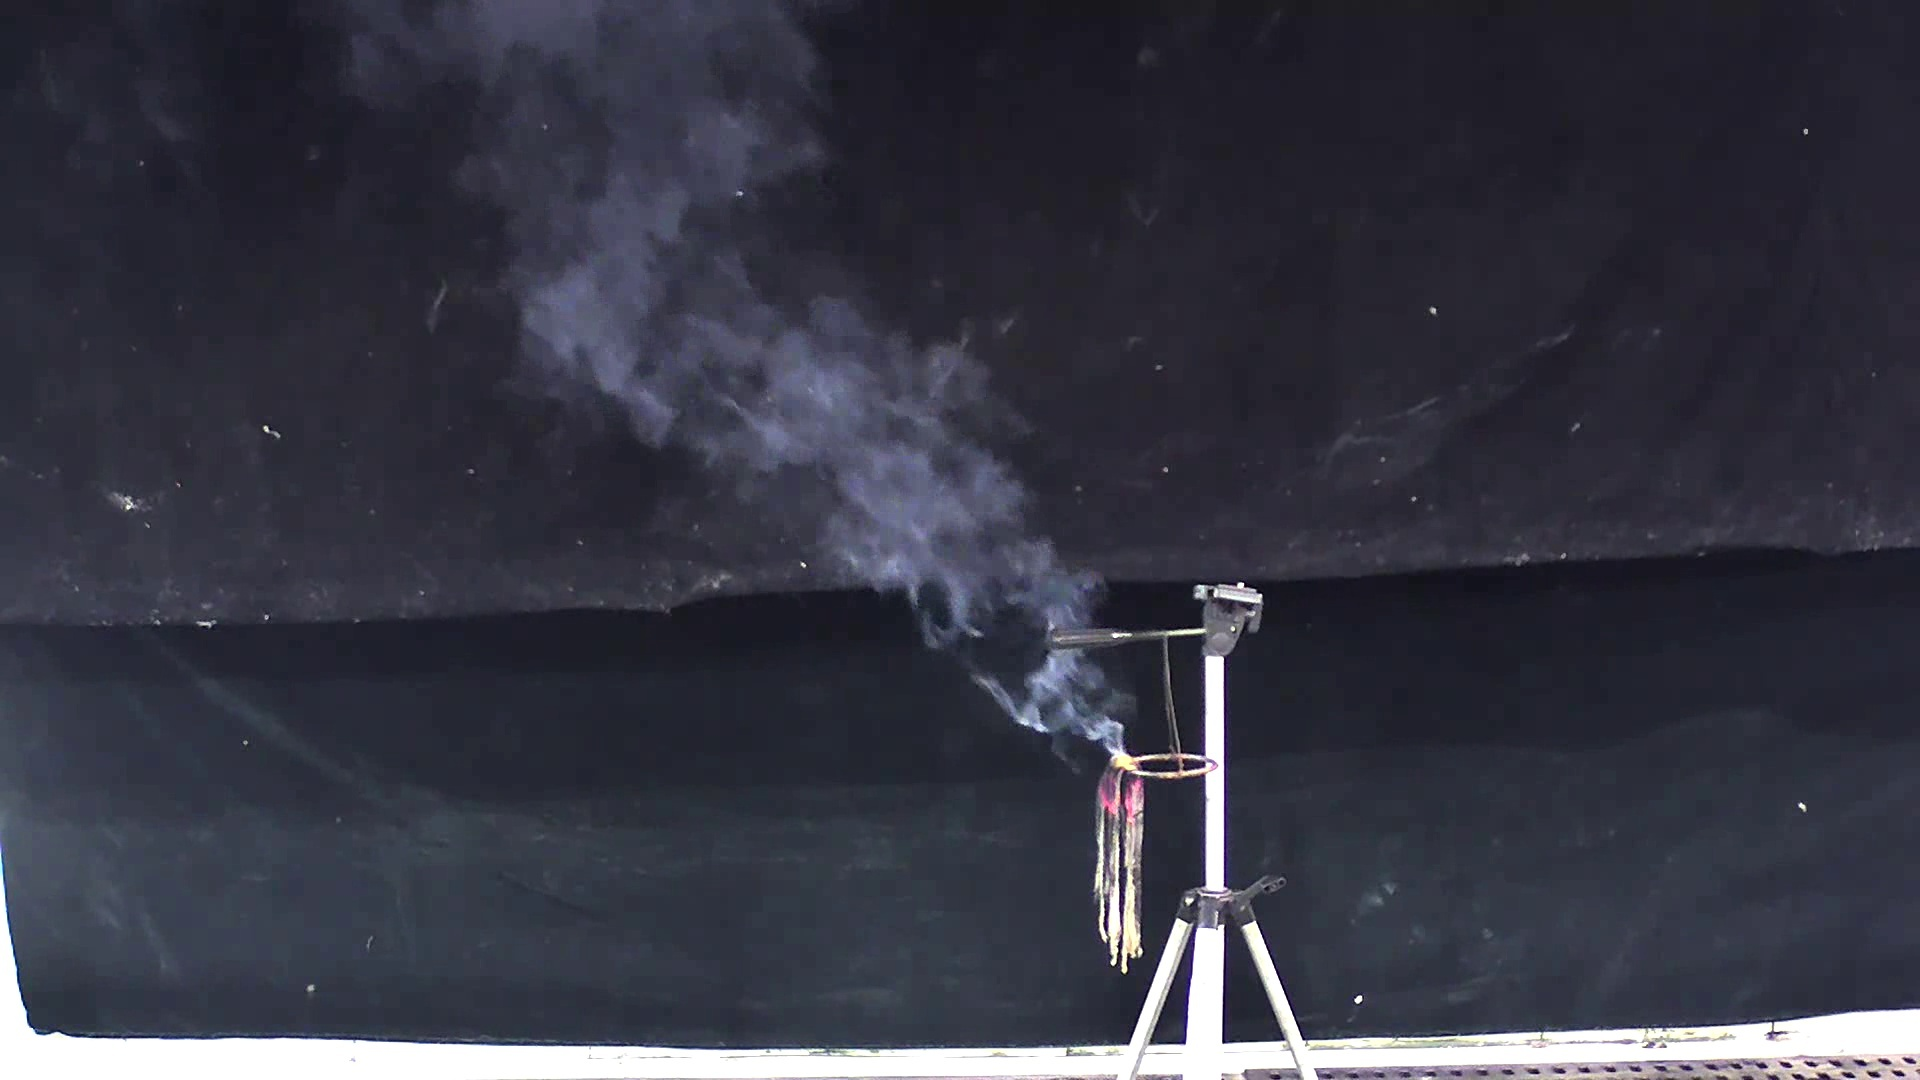smoke: (338, 3, 1129, 766)
